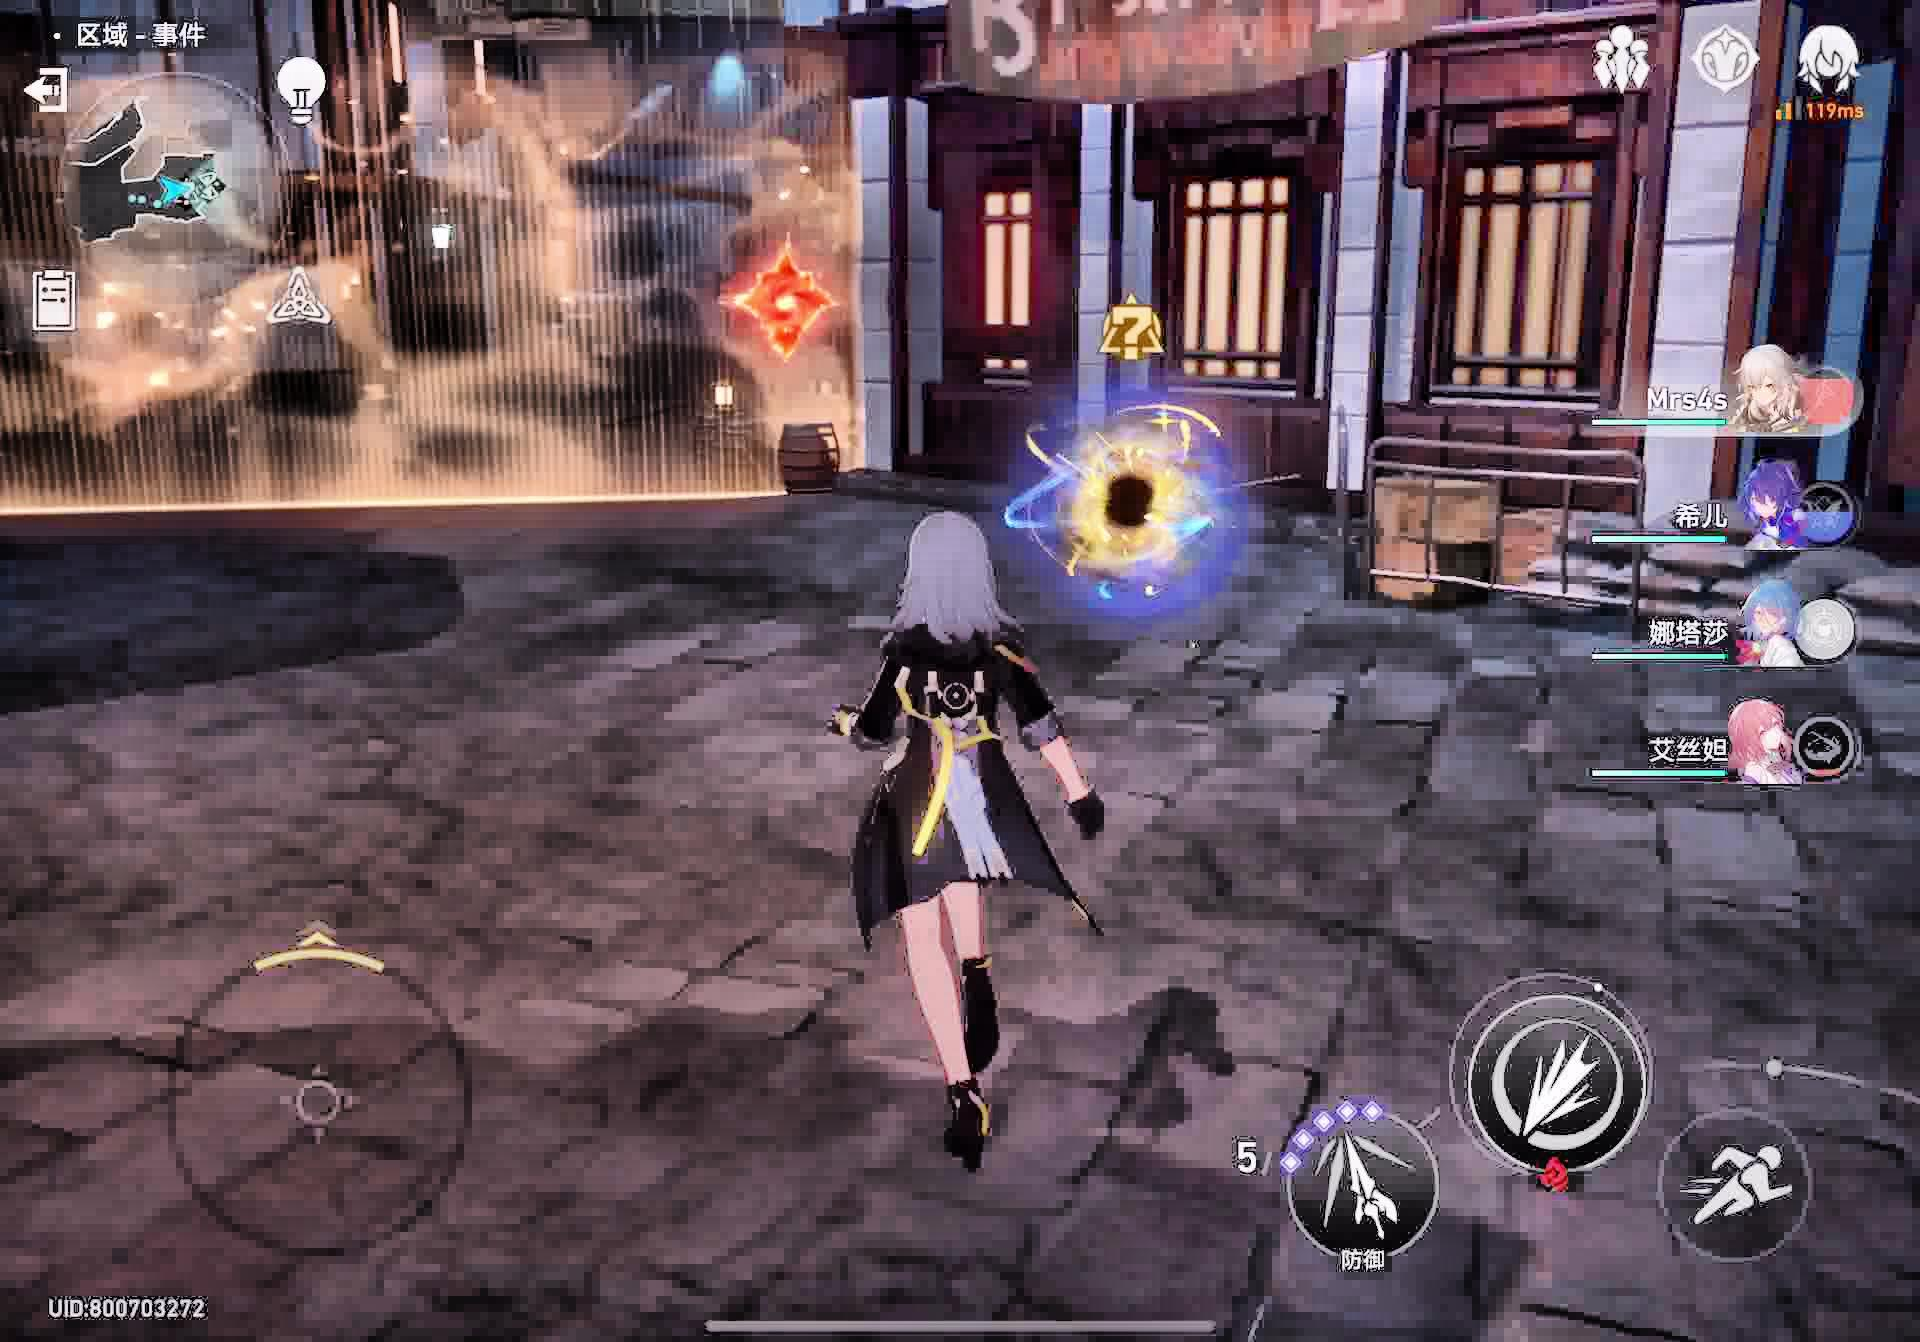BattleDoor: (716, 242, 845, 362)
EventStar: (1004, 398, 1242, 623)
Self: (835, 512, 1109, 1165)
